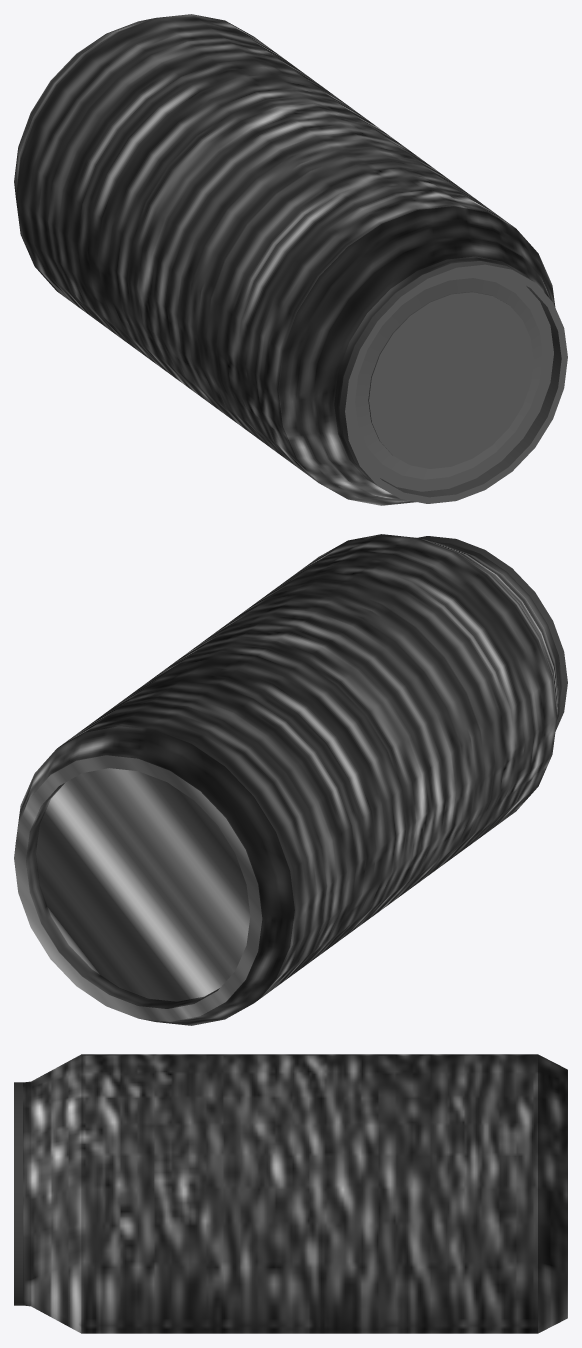
The model's file is model_scale.obj.
3 renders of one model, top to bottom at view 1: azimuth 30°, elevation 25°; view 2: azimuth 150°, elevation 25°; view 3: azimuth 270°, elevation 25°, orthographic. The views are drawn at different scales.
Parts seen in each view (by area): view 1: mesh1_mesh1-geometry; view 2: mesh1_mesh1-geometry; view 3: mesh1_mesh1-geometry.
Boxes of the visible parts, x1=… form: mesh1_mesh1-geometry: x1=14, y1=14, x2=567, y2=505; mesh1_mesh1-geometry: x1=14, y1=534, x2=567, y2=1025; mesh1_mesh1-geometry: x1=14, y1=1054, x2=567, y2=1333.
Bounding box in the file's own units: 0.0681 × 0.0681 × 0.1346.
